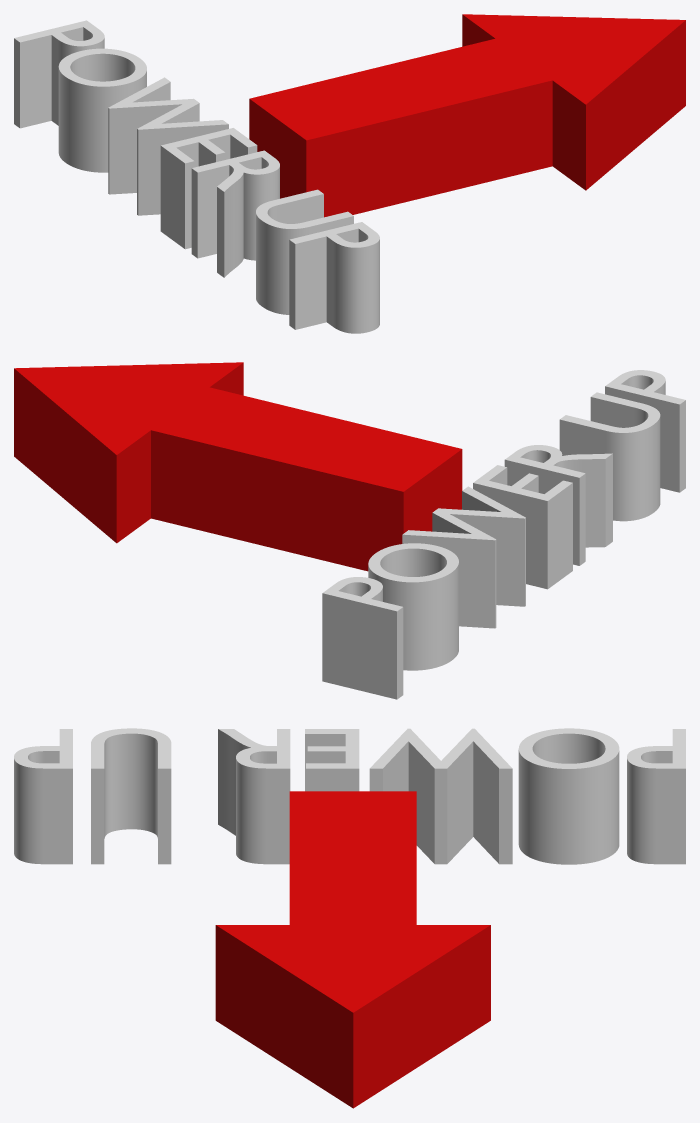
File: arrow_powerup.fbx
The picture shows the model from 3 angles, top to bottom: view 1: azimuth 30°, elevation 25°; view 2: azimuth 150°, elevation 25°; view 3: azimuth 270°, elevation 25°; orthographic projection. The views are drawn at different scales.
Parts seen in each view (by area): view 1: Plane, Text; view 2: Plane, Text; view 3: Text, Plane.
Boxes of the visible parts, left/top/right/bottom form: Plane: left=249, top=14, right=685, bottom=217; Text: left=14, top=20, right=379, bottom=333; Plane: left=14, top=362, right=462, bottom=571; Text: left=322, top=370, right=685, bottom=699; Text: left=14, top=728, right=685, bottom=864; Plane: left=215, top=791, right=490, bottom=1108.
Size of the model in its own units: 637 by 100 by 636.
